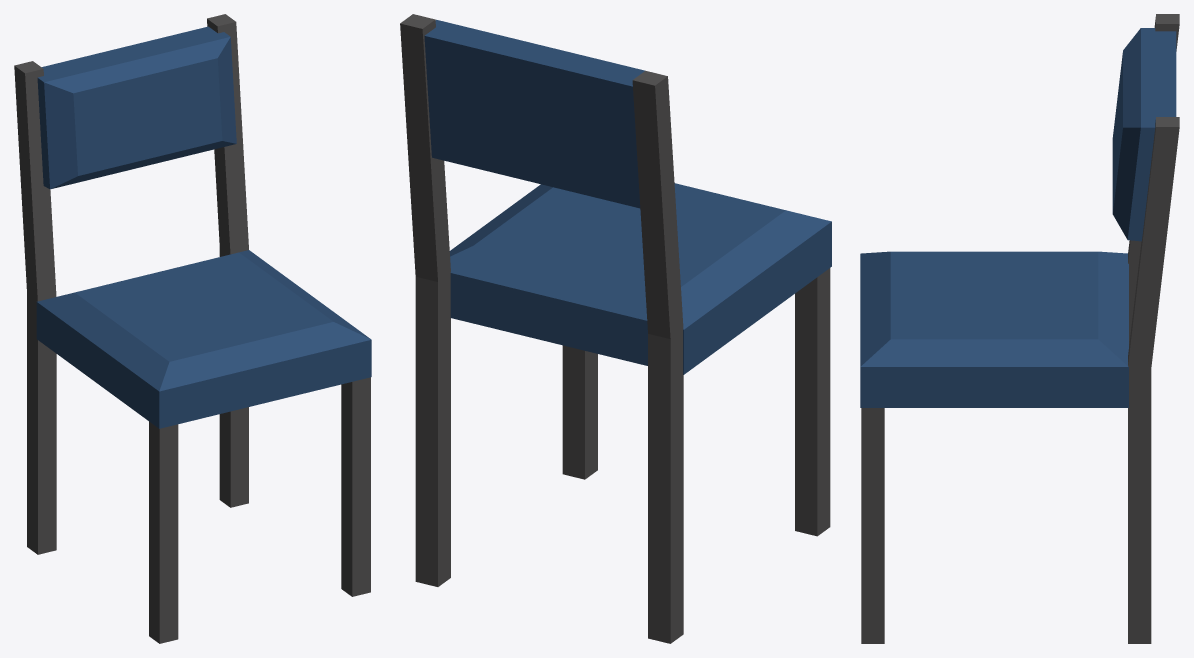
The model's file is SM_Prop_ShopInterior_Chair_01.glb.
3 views of the same model, side by side, from view 1: azimuth 30°, elevation 25°; view 2: azimuth 150°, elevation 25°; view 3: azimuth 270°, elevation 25° (orthographic). The views are drawn at different scales.
Visible parts, largest first — view 1: SM_Prop_ShopInterior_Chair_01; view 2: SM_Prop_ShopInterior_Chair_01; view 3: SM_Prop_ShopInterior_Chair_01.
Boxes of the visible parts, x1,y1,x2,y2 form: SM_Prop_ShopInterior_Chair_01: (14, 14, 371, 643); SM_Prop_ShopInterior_Chair_01: (400, 14, 831, 643); SM_Prop_ShopInterior_Chair_01: (860, 14, 1179, 643).
Bounding box in the file's own units: 0.00493 × 0.0105 × 0.00587.
Materials: 1 (1 with a texture image).
